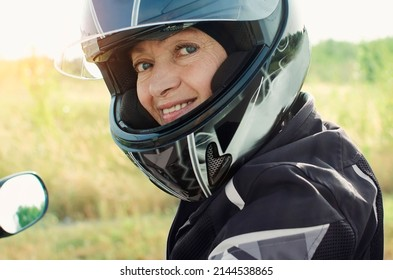helmets: (62, 0, 326, 204)
